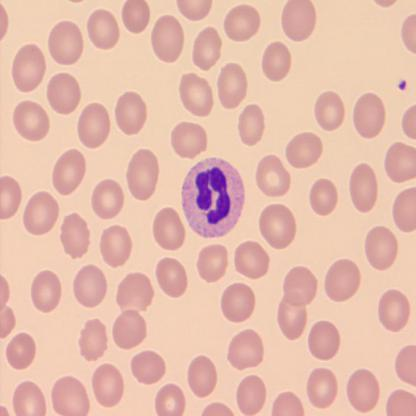Segmented neutrophil: (178, 154, 247, 240)
